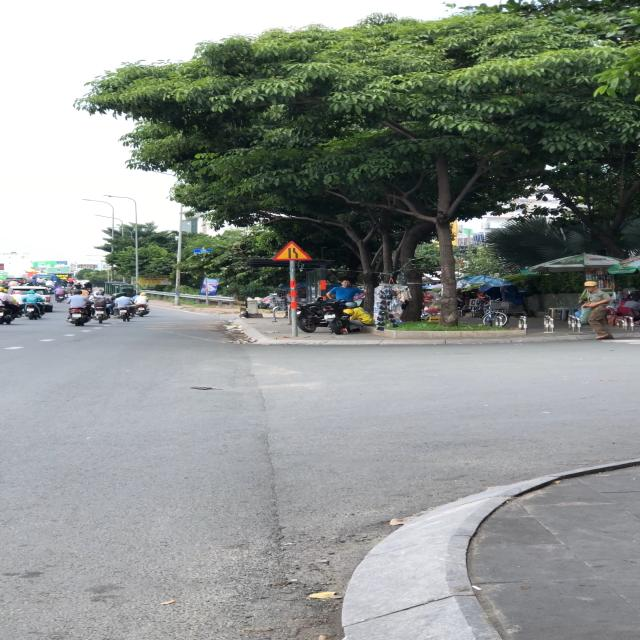Bien bao duong bi thu hep: (271, 238, 315, 261)
